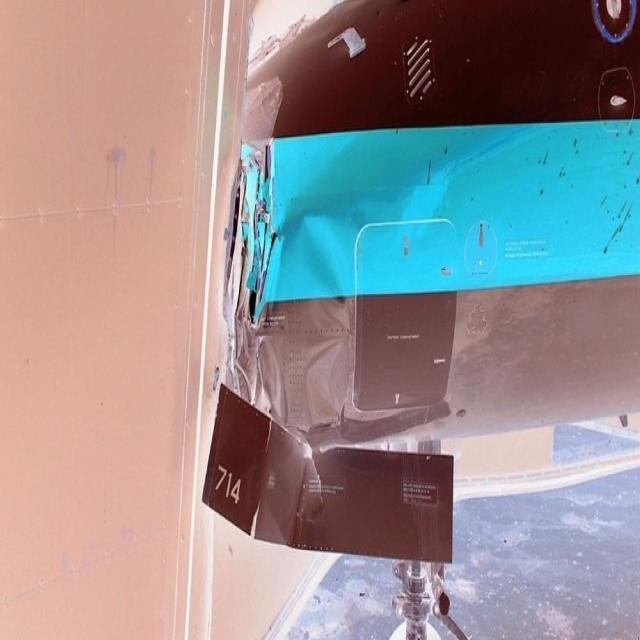dent: (300, 213, 353, 435)
